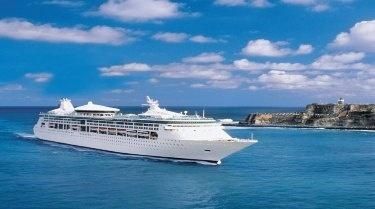youlun: (32, 93, 263, 165)
